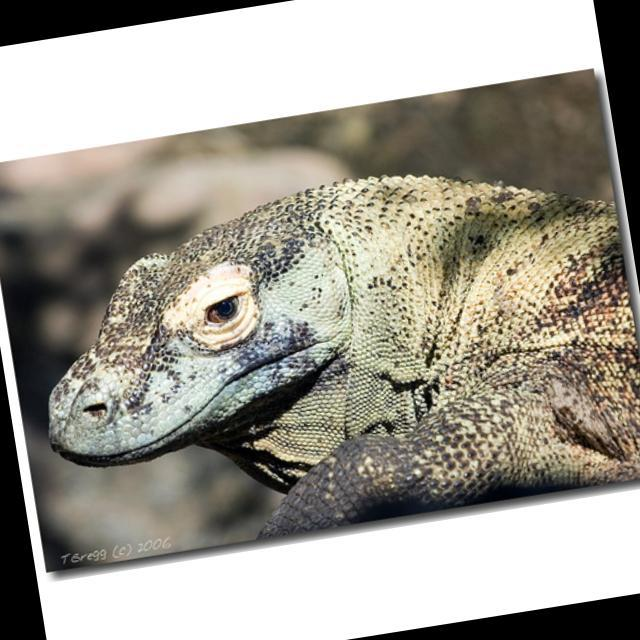KomodoDragon: (16, 135, 640, 569)
